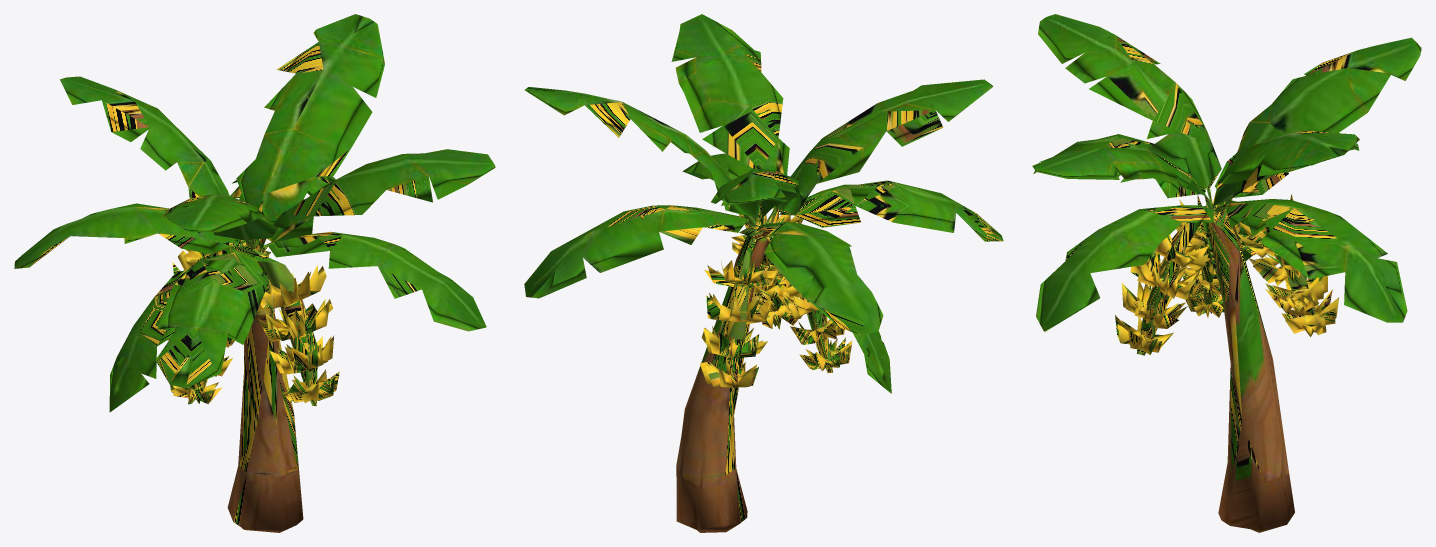
Rendered from banana-3.glb.
3 views of the same model, side by side, from view 1: azimuth 30°, elevation 25°; view 2: azimuth 150°, elevation 25°; view 3: azimuth 270°, elevation 25° (orthographic). The views are drawn at different scales.
Parts seen in each view (by area): view 1: geometry_0; view 2: geometry_0; view 3: geometry_0.
Boxes of the visible parts, x1,y1,x2,y2 form: geometry_0: [14, 14, 495, 532]; geometry_0: [524, 14, 1003, 532]; geometry_0: [1032, 14, 1421, 532].
Bounding box in the file's own units: 0.8135 × 0.9487 × 0.7583.
Materials: 1 (1 with a texture image).
